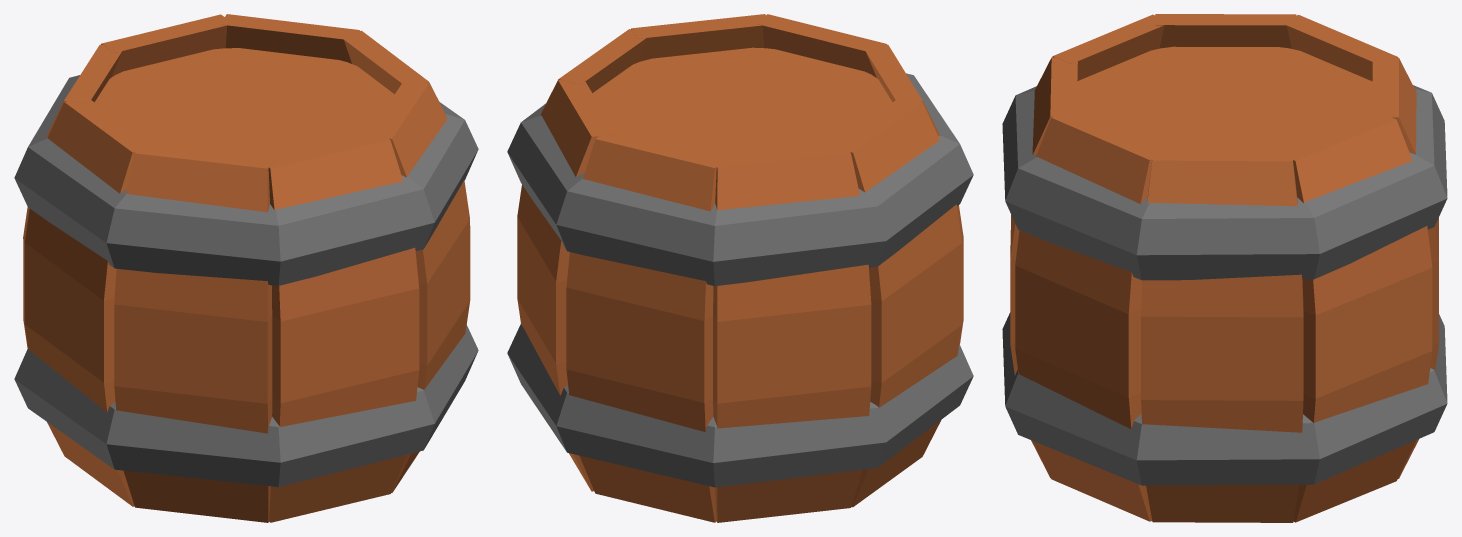
The model's file is AS_Castle_Barrel.fbx.
3 renders of one model, left to right at view 1: azimuth 30°, elevation 25°; view 2: azimuth 150°, elevation 25°; view 3: azimuth 270°, elevation 25°, orthographic. The views are drawn at different scales.
Parts seen in each view (by area): view 1: Cube.006; view 2: Cube.006; view 3: Cube.006.
Part boxes in pixels (x1,y1,x2,y2): Cube.006: (14, 14, 478, 522); Cube.006: (507, 14, 973, 522); Cube.006: (1002, 14, 1447, 522).
Bounding box in the file's own units: 396 × 356 × 396.
